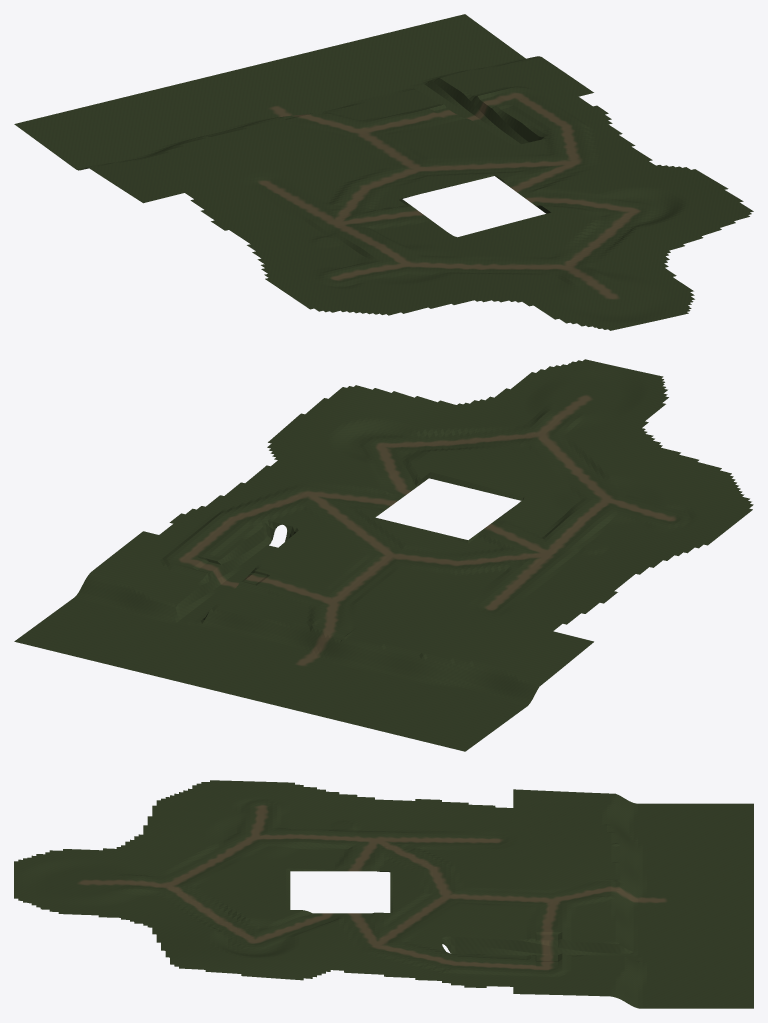
Rendered from level_camp_terrain_amenities.glb.
3 renders of one model, top to bottom at view 1: azimuth 30°, elevation 25°; view 2: azimuth 150°, elevation 25°; view 3: azimuth 270°, elevation 25°, orthographic. The views are drawn at different scales.
Parts seen in each view (by area): view 1: level_camp_terrain_amenities; view 2: level_camp_terrain_amenities; view 3: level_camp_terrain_amenities.
Boxes of the visible parts, x1,y1,x2,y2 form: level_camp_terrain_amenities: [14, 14, 753, 330]; level_camp_terrain_amenities: [14, 359, 753, 751]; level_camp_terrain_amenities: [14, 780, 753, 1008].
Size of the model in its own units: 68 by 5.11 by 104.
4 materials, 4 textured.
